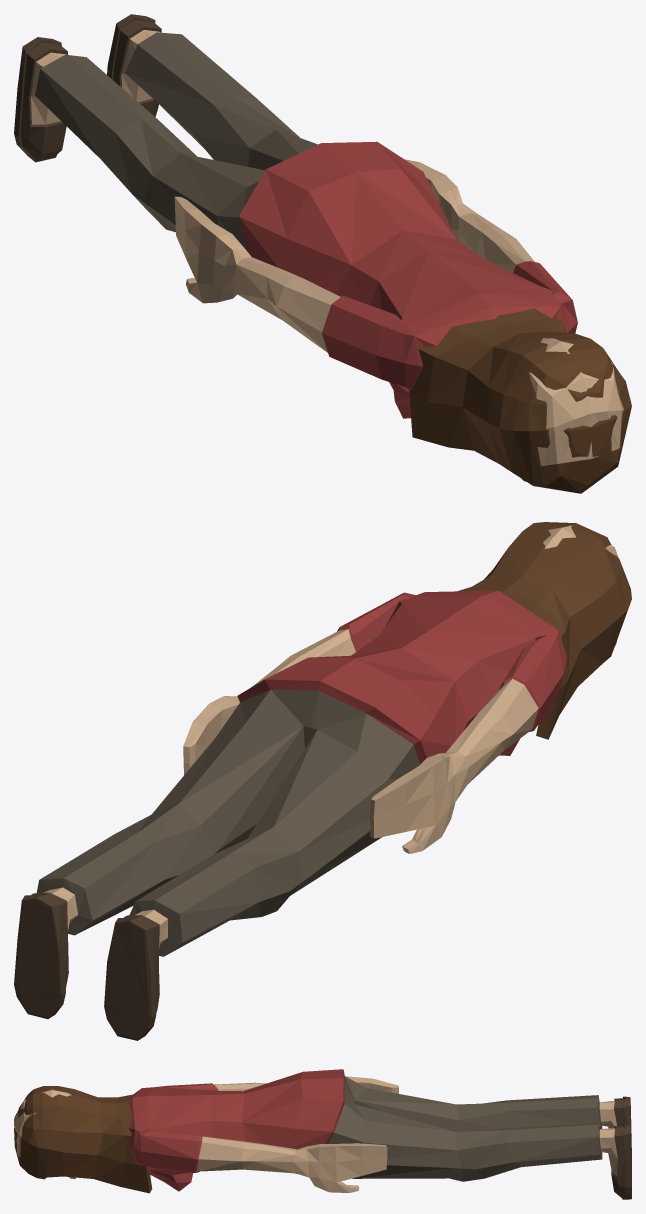
Rendered from woman-standing.obj.
3 renders of one model, top to bottom at view 1: azimuth 30°, elevation 25°; view 2: azimuth 150°, elevation 25°; view 3: azimuth 270°, elevation 25°, orthographic. The views are drawn at different scales.
Visible parts, largest first — view 1: woman-standing; view 2: woman-standing; view 3: woman-standing.
Boxes of the visible parts, x1,y1,x2,y2 form: woman-standing: [14, 14, 631, 493]; woman-standing: [14, 522, 631, 1040]; woman-standing: [14, 1069, 631, 1199].
Bounding box in the file's own units: 17.85 × 12.32 × 65.21.
